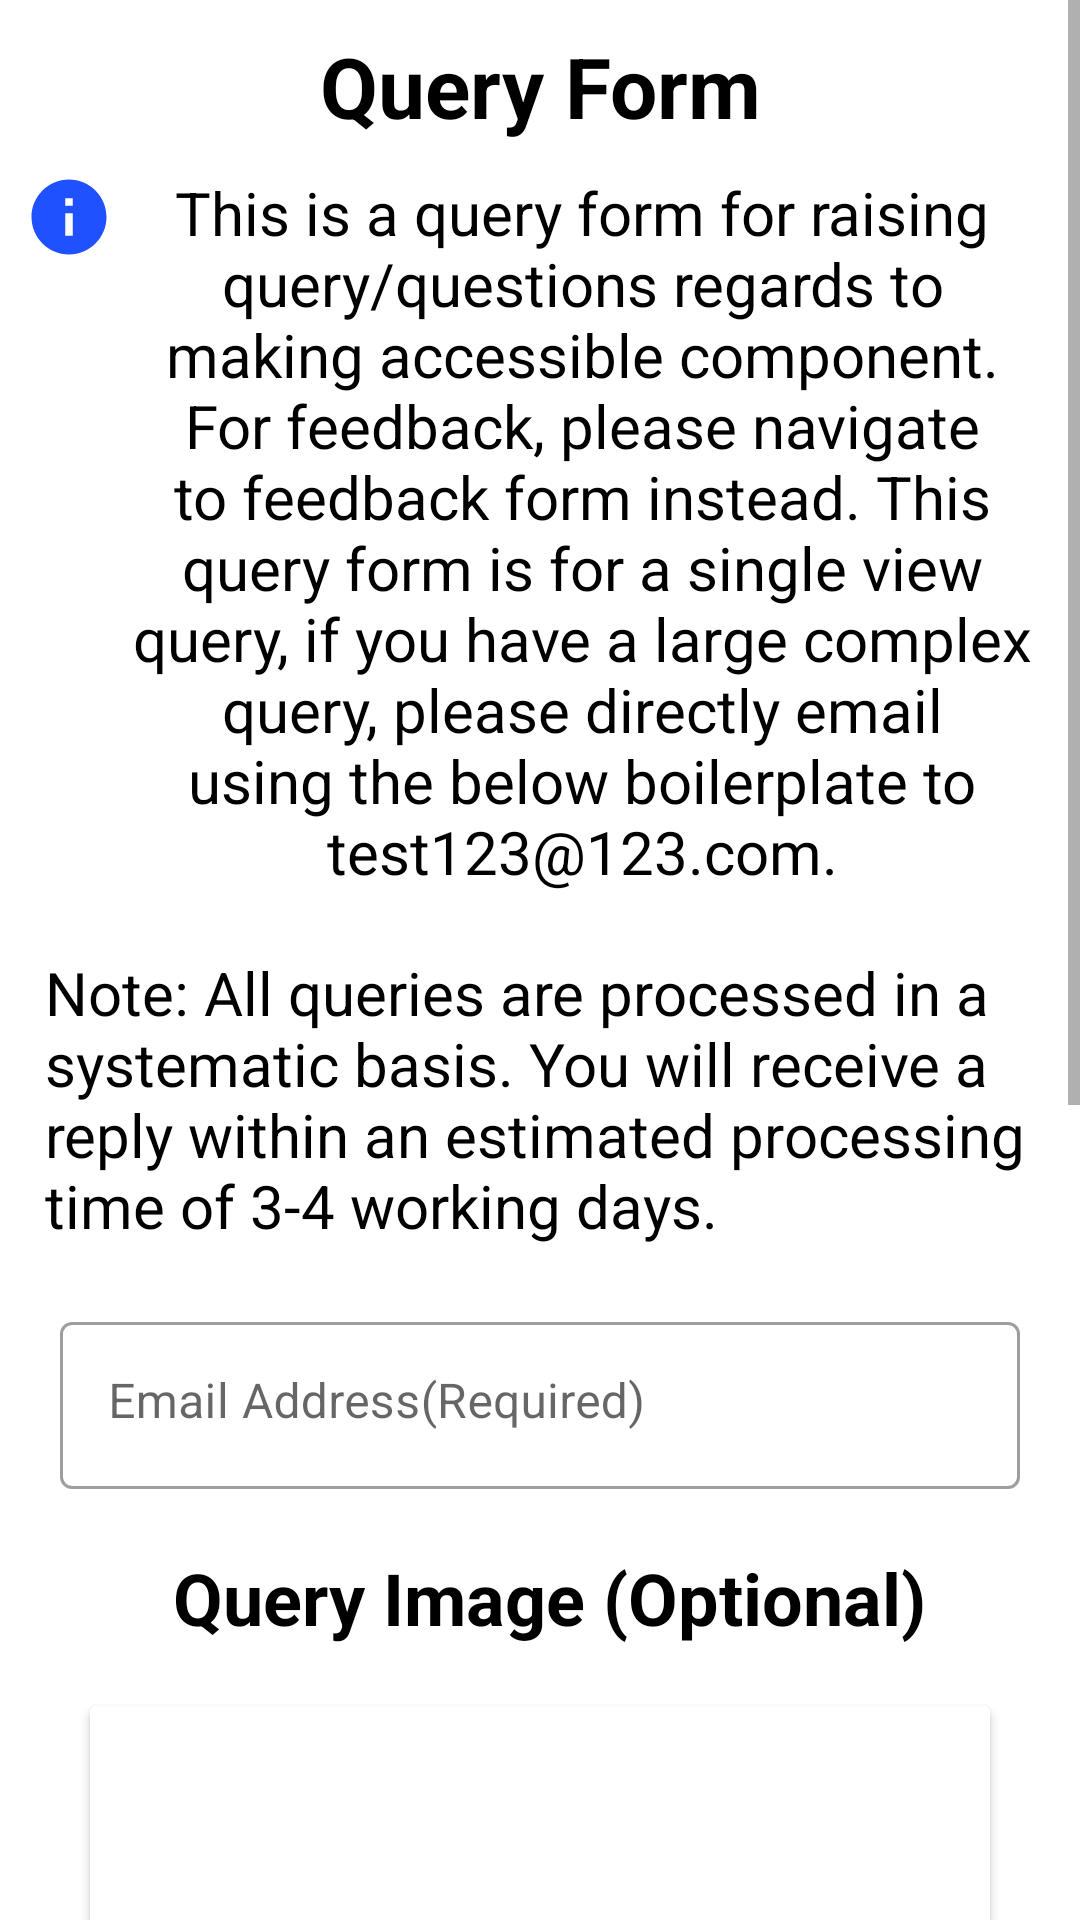

Named icons in this screenshot (1080×1920) and their bounding boxes, (x1, y1, x2, y2):
Information: (31, 179, 107, 255)
